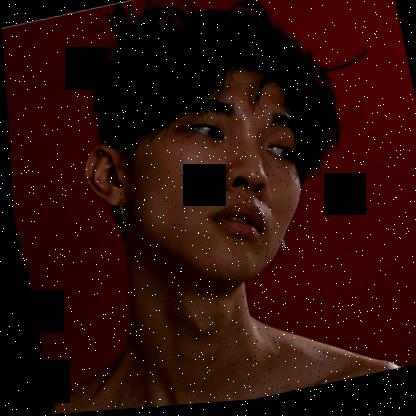Male: (71, 62, 322, 305)
